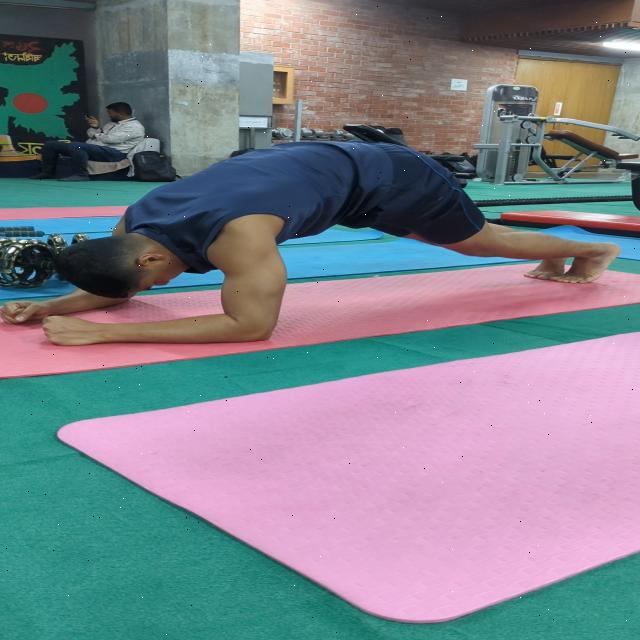Normal_MountainClimbers: (0, 115, 613, 374)
